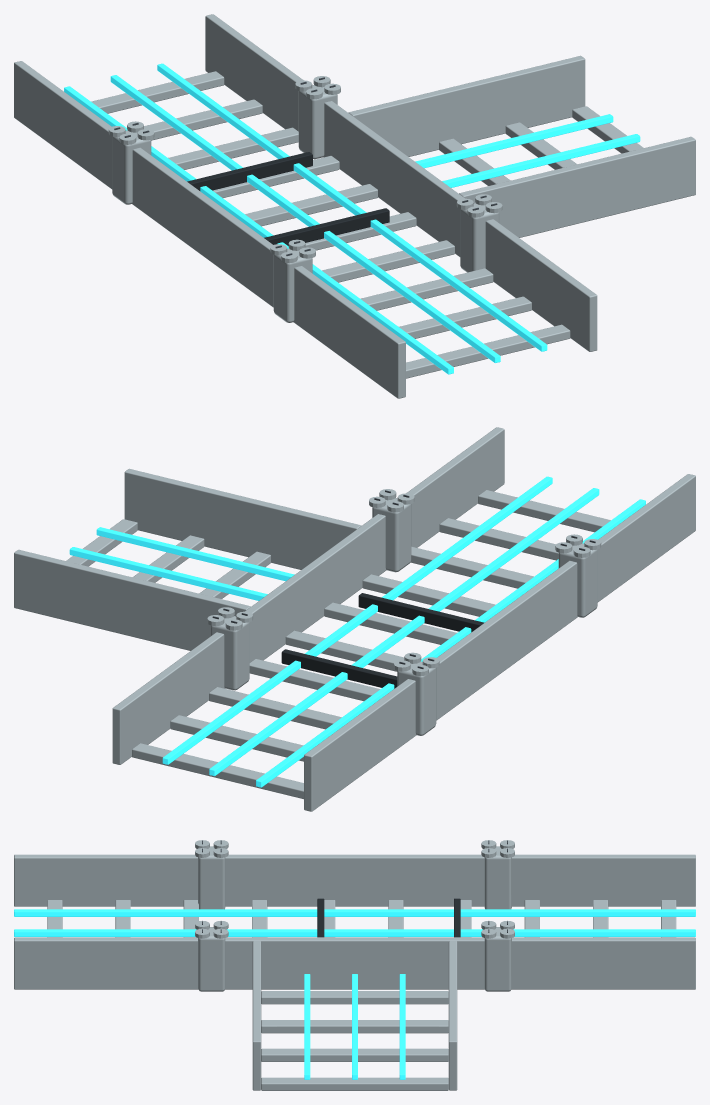
File: data-centre-infiltration-kit-data-centre-infiltration--f9e806ca__29270.glb
The picture shows the model from 3 angles, top to bottom: view 1: azimuth 30°, elevation 25°; view 2: azimuth 150°, elevation 25°; view 3: azimuth 270°, elevation 25°; orthographic projection. The views are drawn at different scales.
Parts seen in each view (by area): view 1: data-centre-infiltration-kit-cable-tee; view 2: data-centre-infiltration-kit-cable-tee; view 3: data-centre-infiltration-kit-cable-tee.
Part boxes in pixels (box(x1,y1,x2,y2)): data-centre-infiltration-kit-cable-tee: box(14, 14, 695, 398); data-centre-infiltration-kit-cable-tee: box(14, 427, 695, 811); data-centre-infiltration-kit-cable-tee: box(14, 840, 695, 1090).
Bounding box in the file's own units: 1.33 × 0.1959 × 2.
